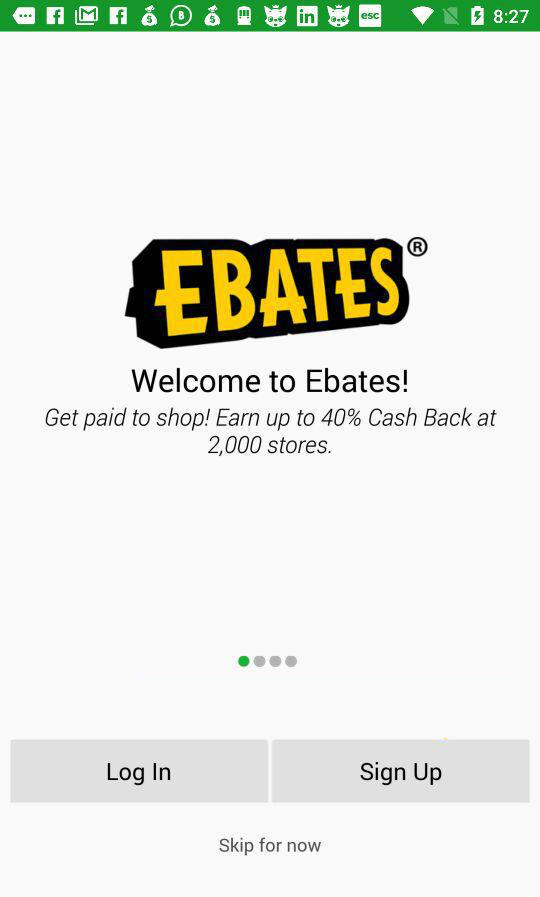Image: (125, 236, 429, 350)
PageIndicator: (238, 655, 299, 669)
Text: (46, 406, 498, 457), (131, 368, 410, 395), (219, 835, 323, 857)
TextButton: (271, 738, 530, 803), (11, 739, 269, 803)
UpperTaskBar: (1, 1, 540, 33)
